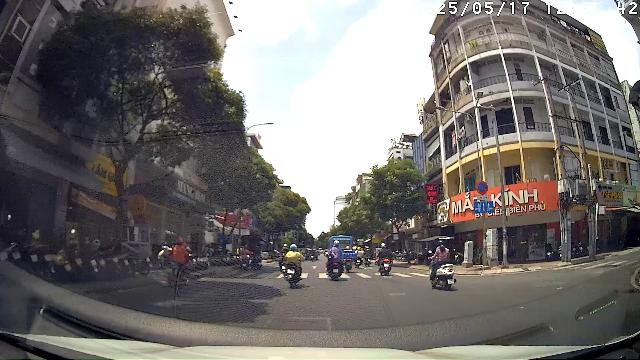131a-cam-do-xe: (476, 180, 488, 194)
